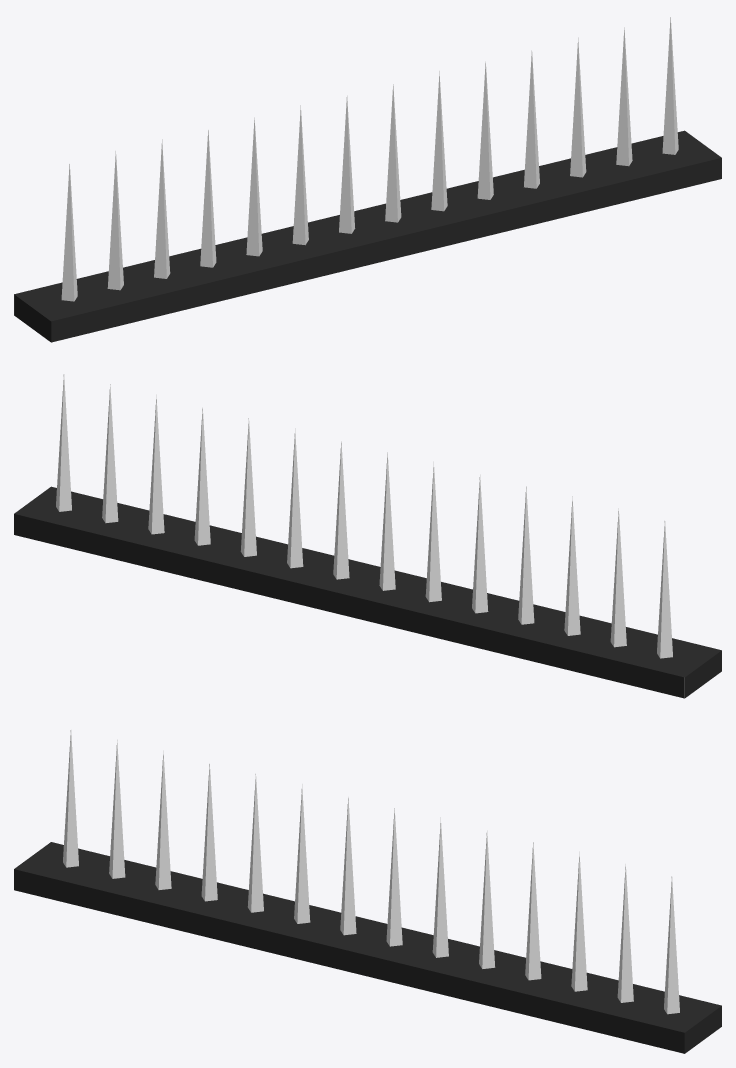
Rendered from spikes.fbx.
The picture shows the model from 3 angles, top to bottom: view 1: azimuth 30°, elevation 25°; view 2: azimuth 150°, elevation 25°; view 3: azimuth 330°, elevation 25°; orthographic projection.
Visible parts, largest first — view 1: pCone16; view 2: pCone16; view 3: pCone16.
Part boxes in pixels (x1,y1,x2,y2): pCone16: (14,17,721,342); pCone16: (14,374,721,698); pCone16: (14,730,721,1053).
Bounding box in the file's own units: 181 × 40.89 × 17.41.
Materials: 1 (1 with a texture image).
